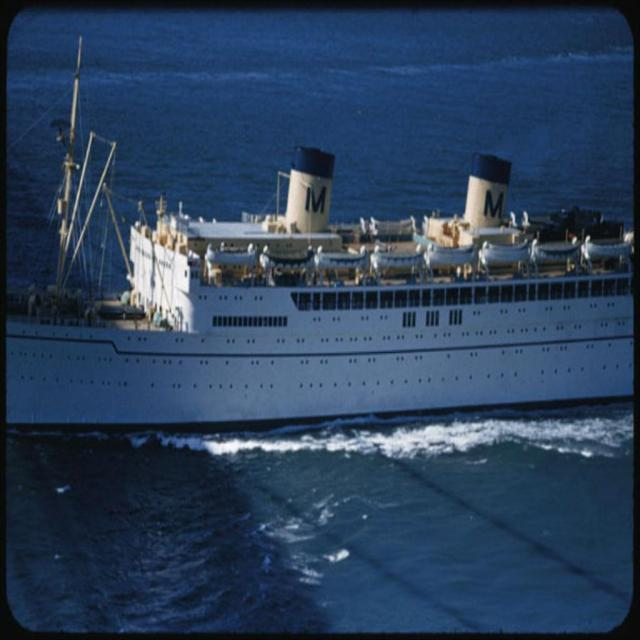Boat: (18, 104, 616, 431)
